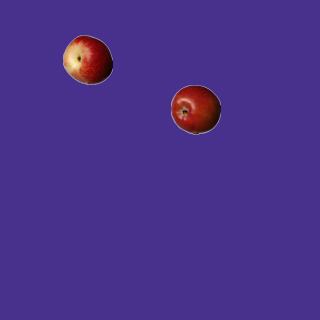Apple Braeburn: (170, 84, 220, 134)
Nectarine: (62, 34, 112, 84)
